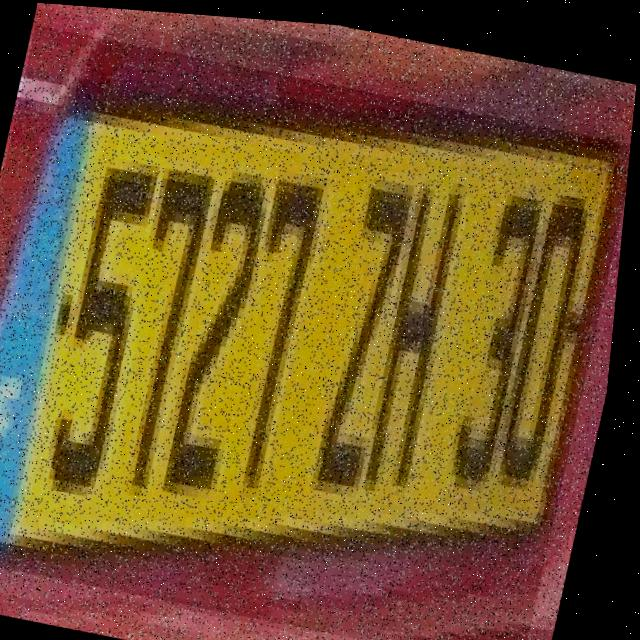LicensePlate: (0, 22, 638, 640)
